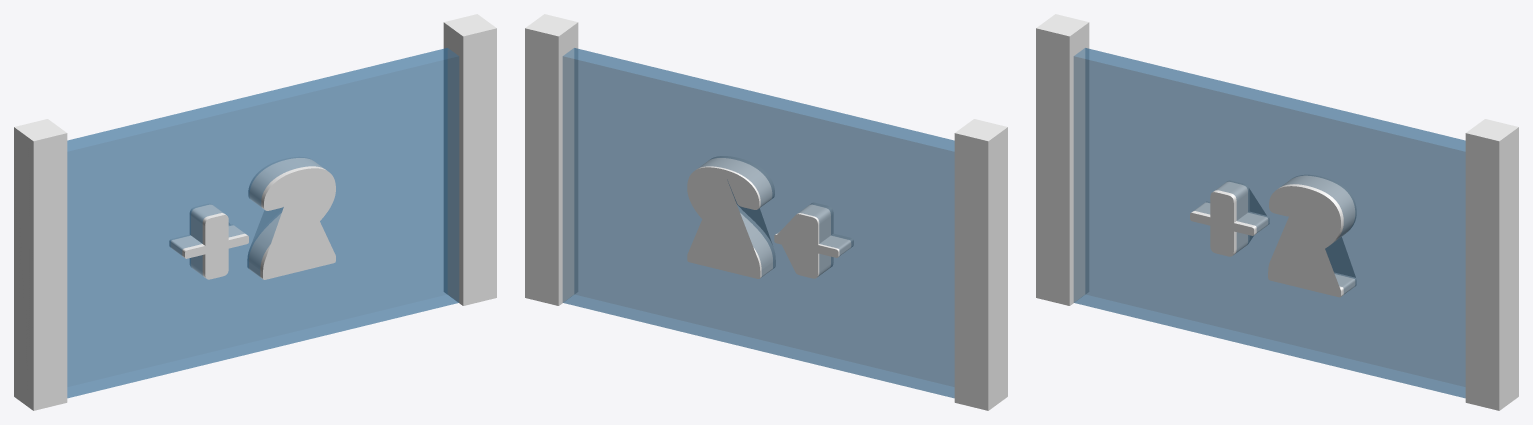
The picture shows the model from 3 angles, left to right: view 1: azimuth 30°, elevation 25°; view 2: azimuth 150°, elevation 25°; view 3: azimuth 330°, elevation 25°; orthographic projection.
Parts seen in each view (by area): view 1: Cube, Cube_1, Cube_2, 2_2, __2; view 2: Cube, Cube_1, Cube_2, 2_2, __2; view 3: Cube, Cube_2, Cube_1, 2_2, __2.
Part boxes in pixels (left/top/right/bottom): Cube: left=67, top=48, right=458, bottom=397; Cube_1: left=14, top=119, right=67, bottom=410; Cube_2: left=443, top=14, right=496, bottom=305; 2_2: left=247, top=157, right=335, bottom=279; __2: left=169, top=204, right=248, bottom=279; Cube: left=563, top=48, right=954, bottom=397; Cube_1: left=954, top=119, right=1007, bottom=410; Cube_2: left=525, top=14, right=578, bottom=305; 2_2: left=687, top=156, right=775, bottom=278; __2: left=774, top=203, right=853, bottom=278; Cube: left=1074, top=48, right=1465, bottom=397; Cube_2: left=1465, top=119, right=1518, bottom=410; Cube_1: left=1036, top=14, right=1089, bottom=305; 2_2: left=1268, top=175, right=1356, bottom=297; __2: left=1190, top=181, right=1269, bottom=256.
Bounding box in the file's own units: 393 × 219 × 28.63.
